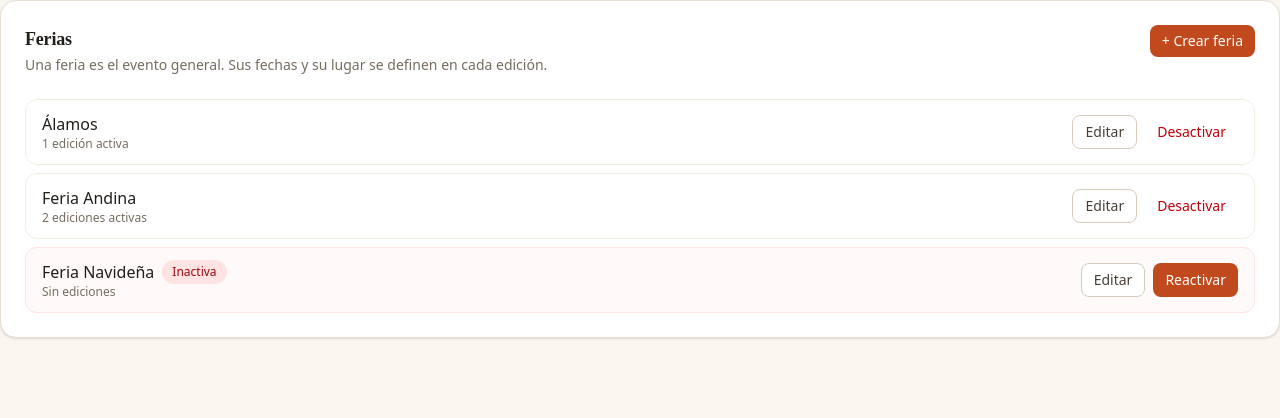
it: GestionFerias: renombrar › guarda el nuevo nombre y refresca
Click the button "Editar" in the row of "2 ediciones activas". click: click(1105, 206)
box: [1072,189,1137,223]
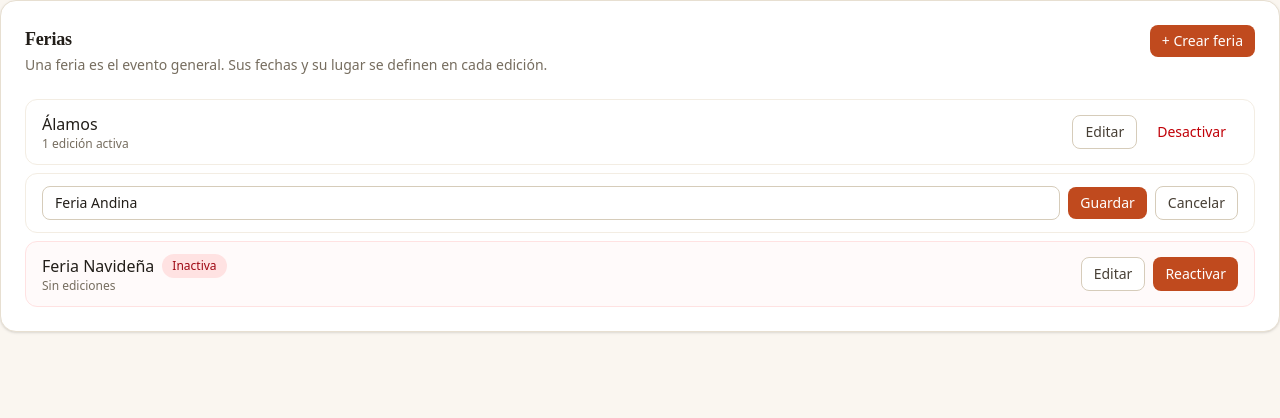
Replace the text in the field named "Nuevo nombre de la feria" with "  Andina 2026 ". click: (551, 203)
box: [42,186,1060,220]
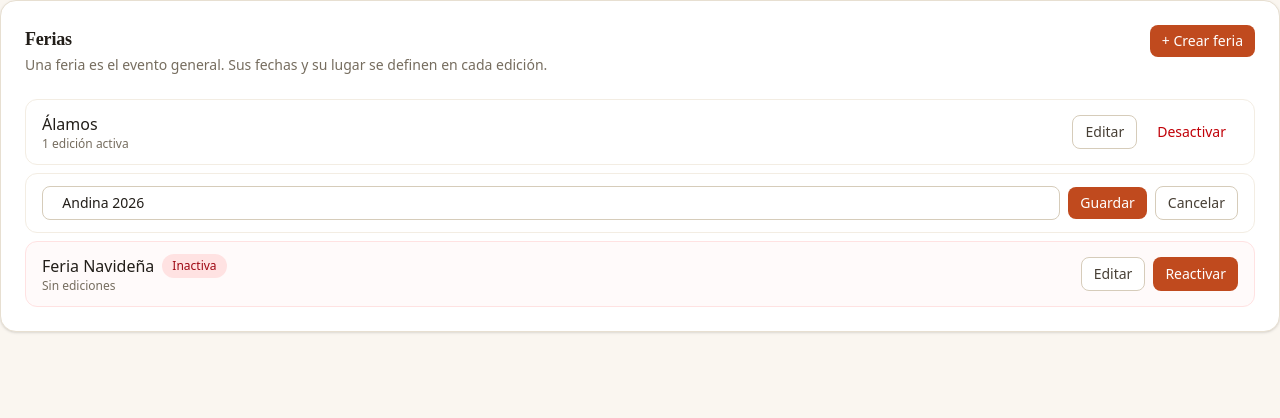
Click the button "Guardar". click: click(1108, 203)
box: [1068,187,1147,219]
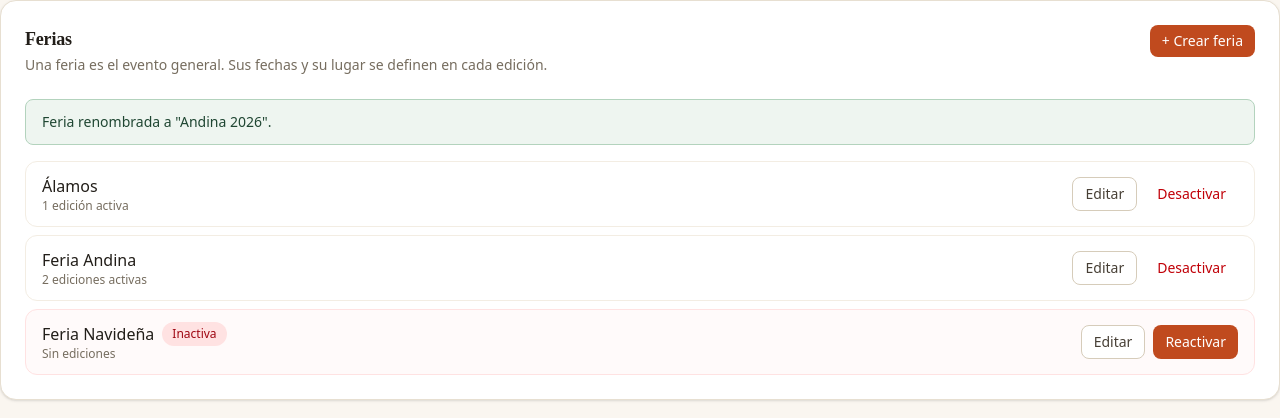
Result: the text "Feria renombrada a \"Andina 2026\"." is shown at [25,99,1255,145]
